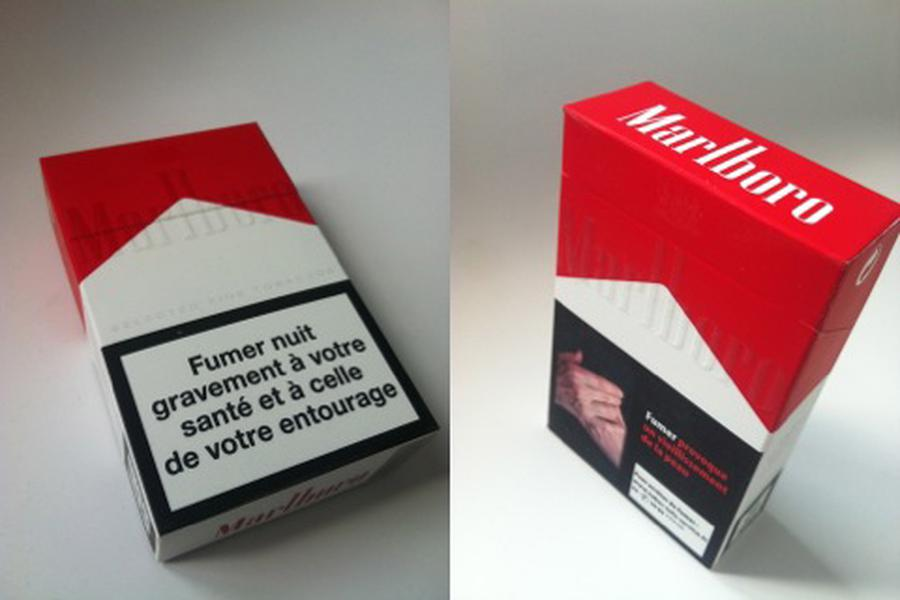marlboro_red: (76, 136, 324, 506), (556, 167, 801, 459)
